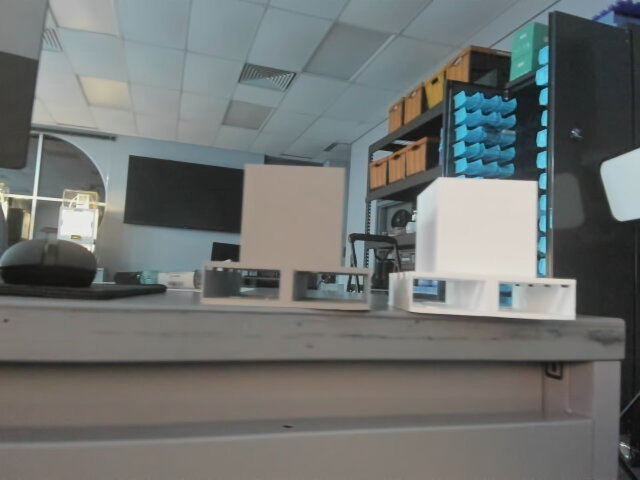grey pallet: (198, 157, 382, 321)
white pallet: (384, 176, 585, 327)
